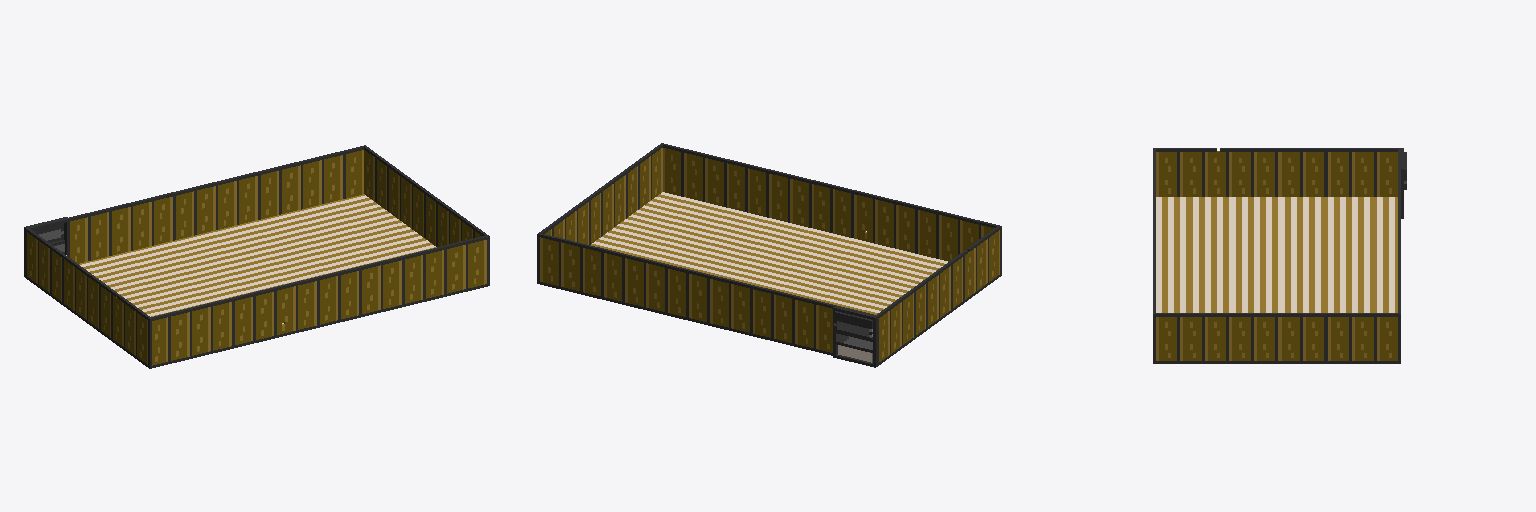
The picture shows the model from 3 angles: view 1: azimuth 30°, elevation 25°; view 2: azimuth 150°, elevation 25°; view 3: azimuth 270°, elevation 25°; orthographic projection.
Parts seen in each view (by area): view 1: Model; view 2: Model; view 3: Model.
Boxes of the visible parts, x1,y1,x2,y2 form: Model: [24, 145, 489, 368]; Model: [537, 143, 1001, 367]; Model: [1153, 148, 1406, 363].
Bounding box in the file's own units: 32 × 4.5 × 20.75.
Materials: 1 (1 with a texture image).